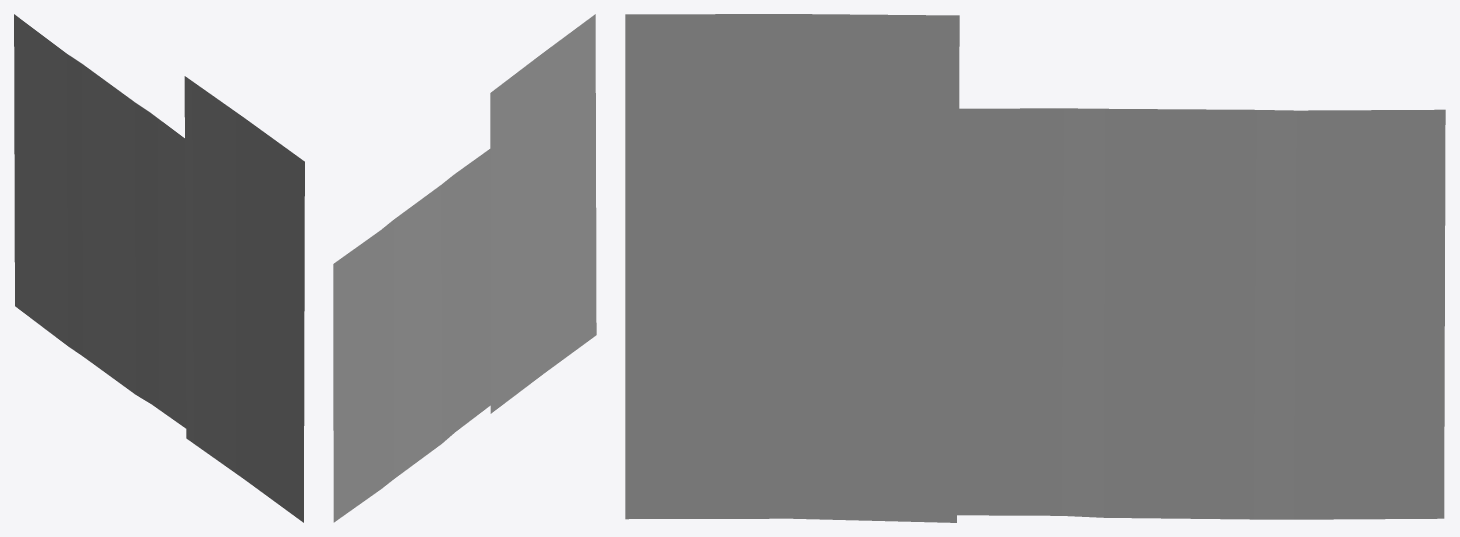
Rendered from Pod-Number01.fbx.
3 renders of one model, left to right at view 1: azimuth 30°, elevation 25°; view 2: azimuth 150°, elevation 25°; view 3: azimuth 270°, elevation 25°, orthographic. The views are drawn at different scales.
Parts seen in each view (by area): view 1: polySurface10403; view 2: polySurface10403; view 3: polySurface10403.
Part boxes in pixels (bbox=[...]): polySurface10403: bbox=[14, 14, 304, 522]; polySurface10403: bbox=[333, 14, 596, 522]; polySurface10403: bbox=[625, 14, 1445, 522].
Bounding box in the file's own units: 0.0099 × 0.8405 × 1.23.
